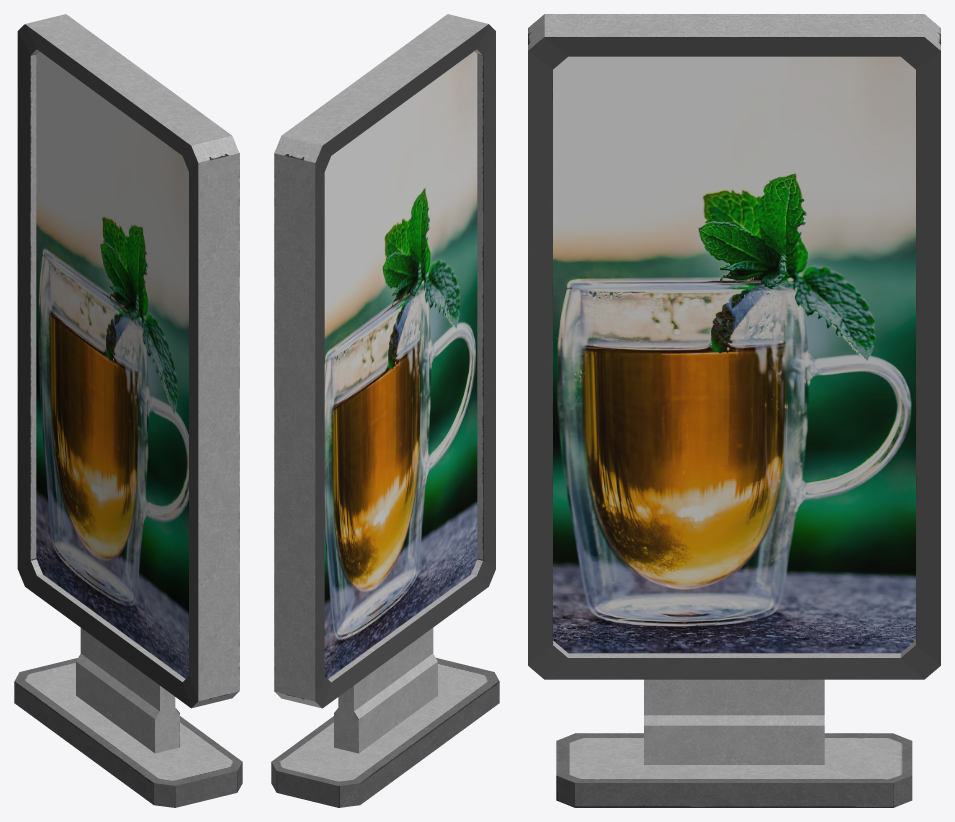
The model's file is Panel06.FBX.
3 views of the same model, side by side, from view 1: azimuth 30°, elevation 25°; view 2: azimuth 150°, elevation 25°; view 3: azimuth 270°, elevation 25° (orthographic). The views are drawn at different scales.
Visible parts, largest first — view 1: Panel06; view 2: Panel06; view 3: Panel06.
Boxes of the visible parts, bbox=[...] form: Panel06: bbox=[14, 14, 242, 807]; Panel06: bbox=[271, 14, 499, 807]; Panel06: bbox=[528, 14, 940, 807].
Bounding box in the file's own units: 297 × 2125 × 1049.
